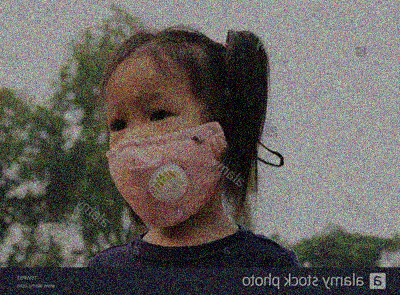with_mask: (104, 88, 227, 231)
